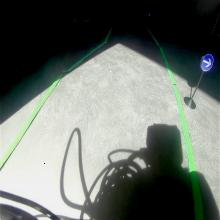right: (200, 53, 215, 72)
